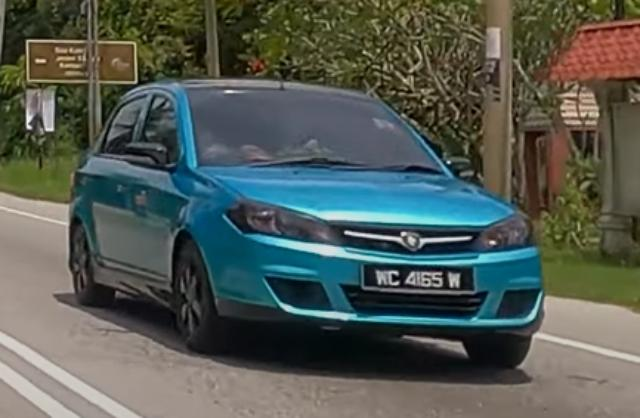License_Plate: (359, 264, 474, 297)
car: (66, 75, 546, 369)
